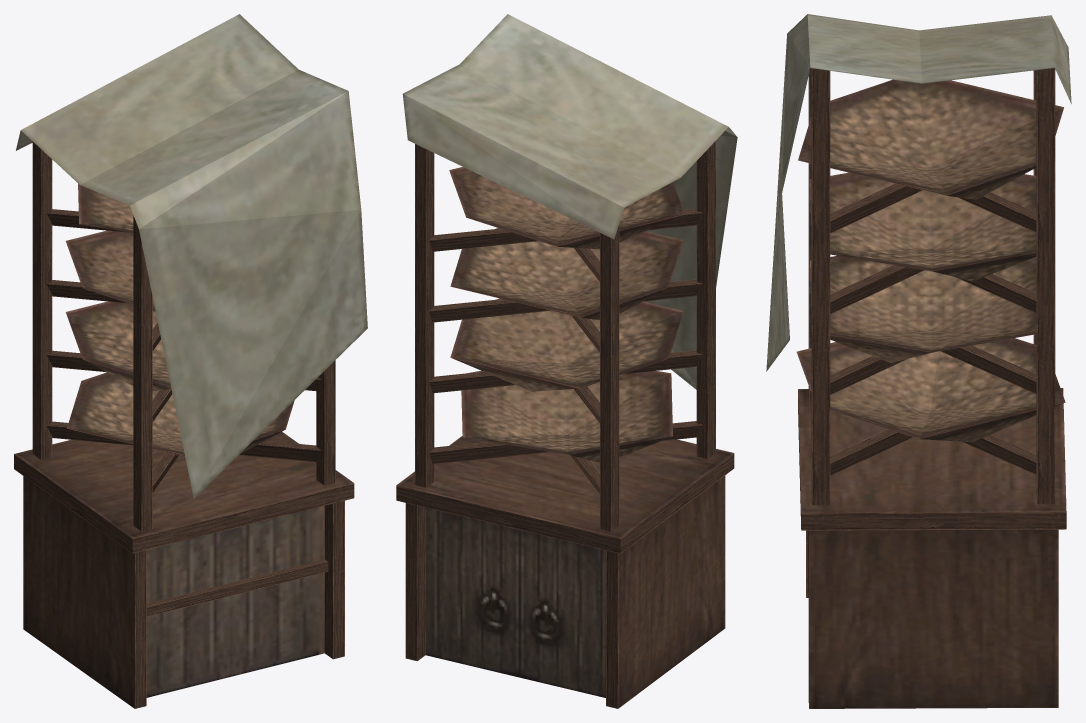
The model's file is 杂物架小01.fbx.
3 views of the same model, side by side, from view 1: azimuth 30°, elevation 25°; view 2: azimuth 150°, elevation 25°; view 3: azimuth 270°, elevation 25° (orthographic). The views are drawn at different scales.
Parts seen in each view (by area): view 1: qingmo_obj_427 [10484402]; view 2: qingmo_obj_427 [10484402]; view 3: qingmo_obj_427 [10484402].
Part boxes in pixels (left/top/right/bottom): qingmo_obj_427 [10484402]: left=14, top=14, right=367, bottom=708; qingmo_obj_427 [10484402]: left=396, top=14, right=737, bottom=708; qingmo_obj_427 [10484402]: left=766, top=14, right=1071, bottom=708.
Bounding box in the file's own units: 5.61 × 5.55 × 12.91.
Materials: 1 (1 with a texture image).
